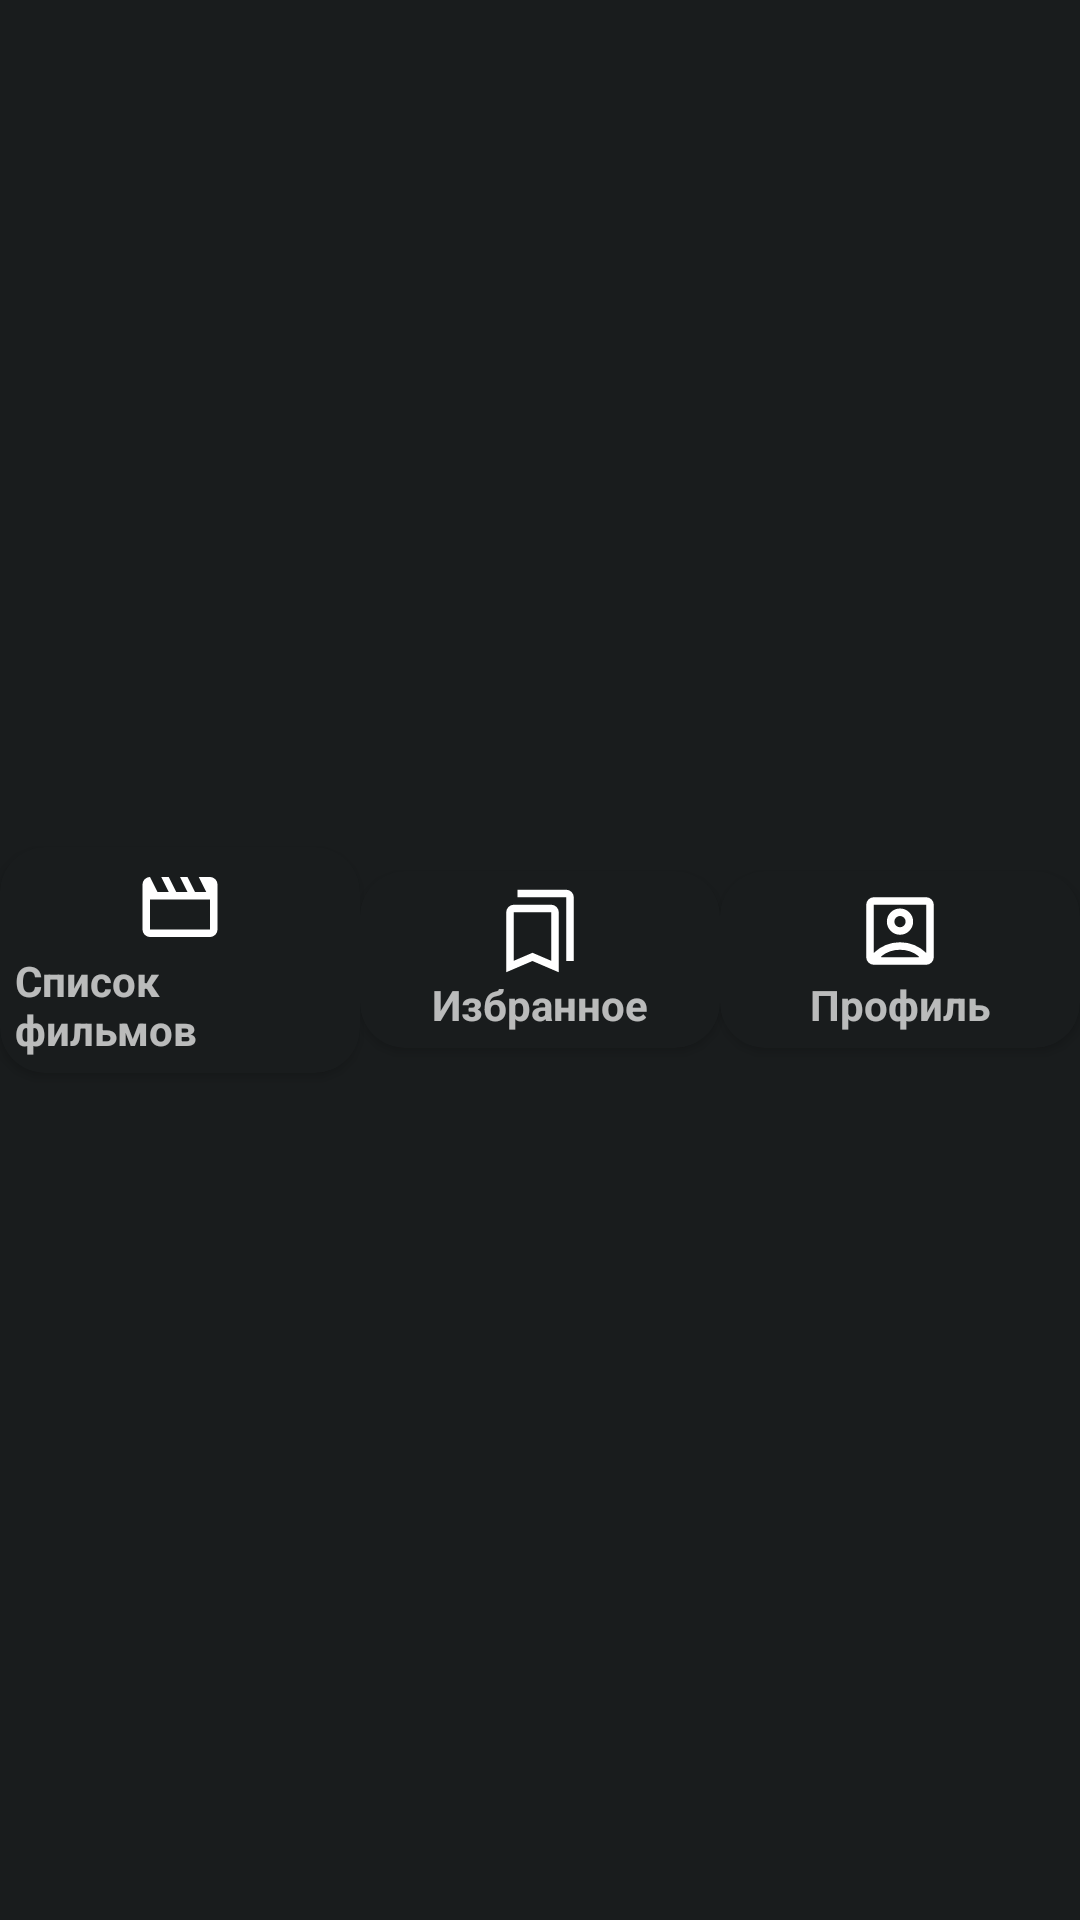

Icon bounding boxes for this 1080px×1920px phone screenshot, format (x1, y1, x2, y2):
bookmarks: (506, 889, 574, 972)
movie: (142, 877, 218, 937)
